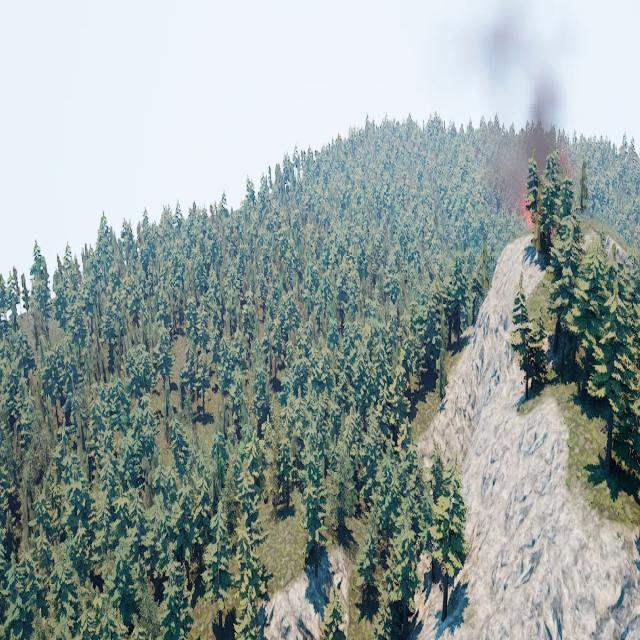fire: (521, 197, 536, 229)
smoke: (483, 5, 580, 216)
